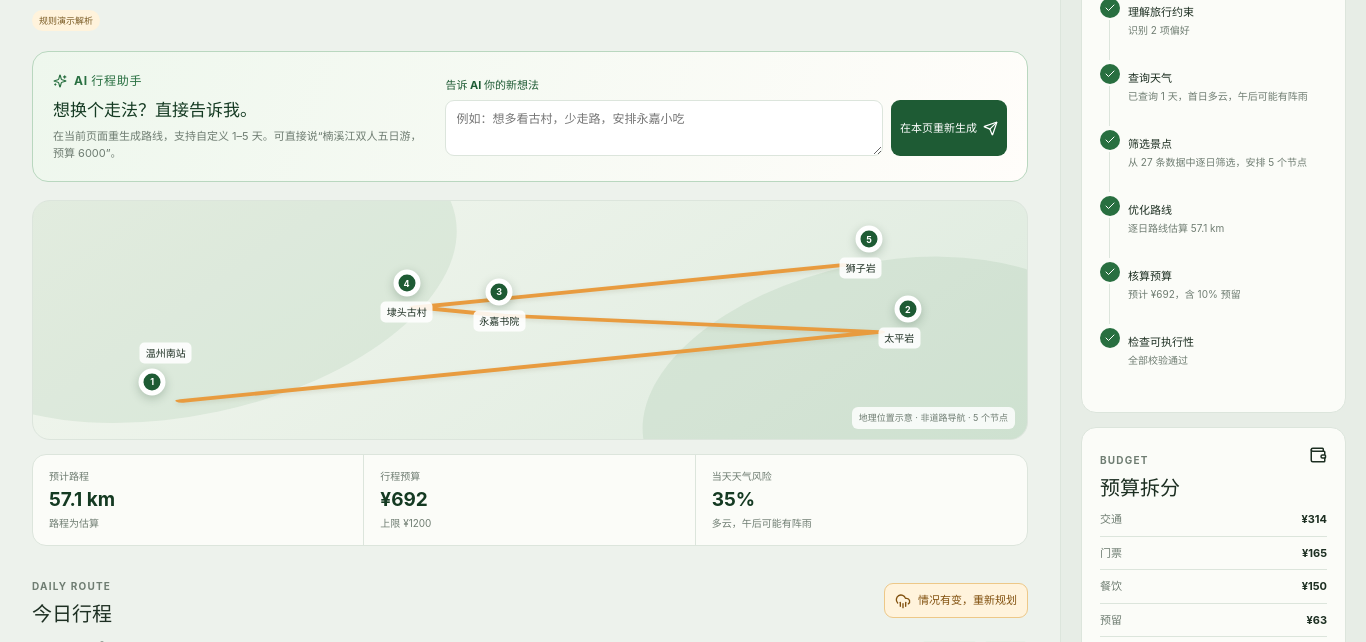
Test: JourneyCockpit › exposes the rain scenario as an explicitly labeled demo event
Click the button "情况有变，重新规划".
click(956, 601)  # box [884,583,1028,618]
(page scrolled)
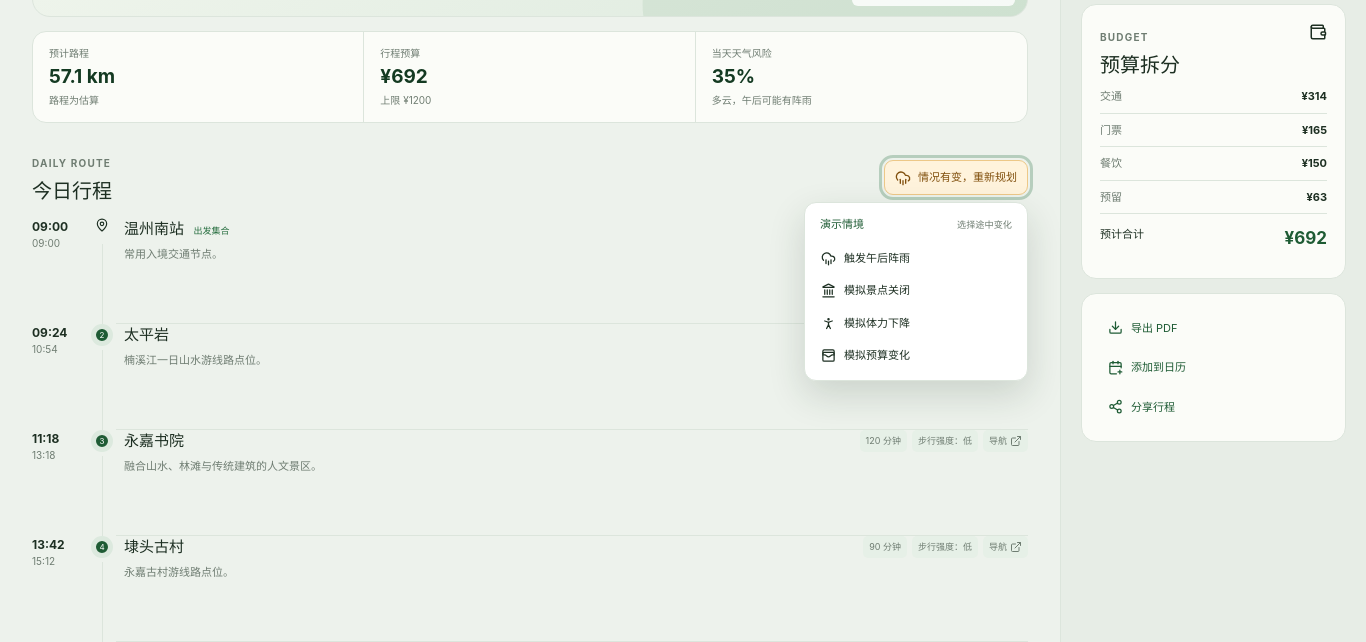
Expected: the text "演示情境" is shown, [820,216,864,233]
Click the button "触发午后阵雨".
click(916, 258)  # box [813,242,1019,274]
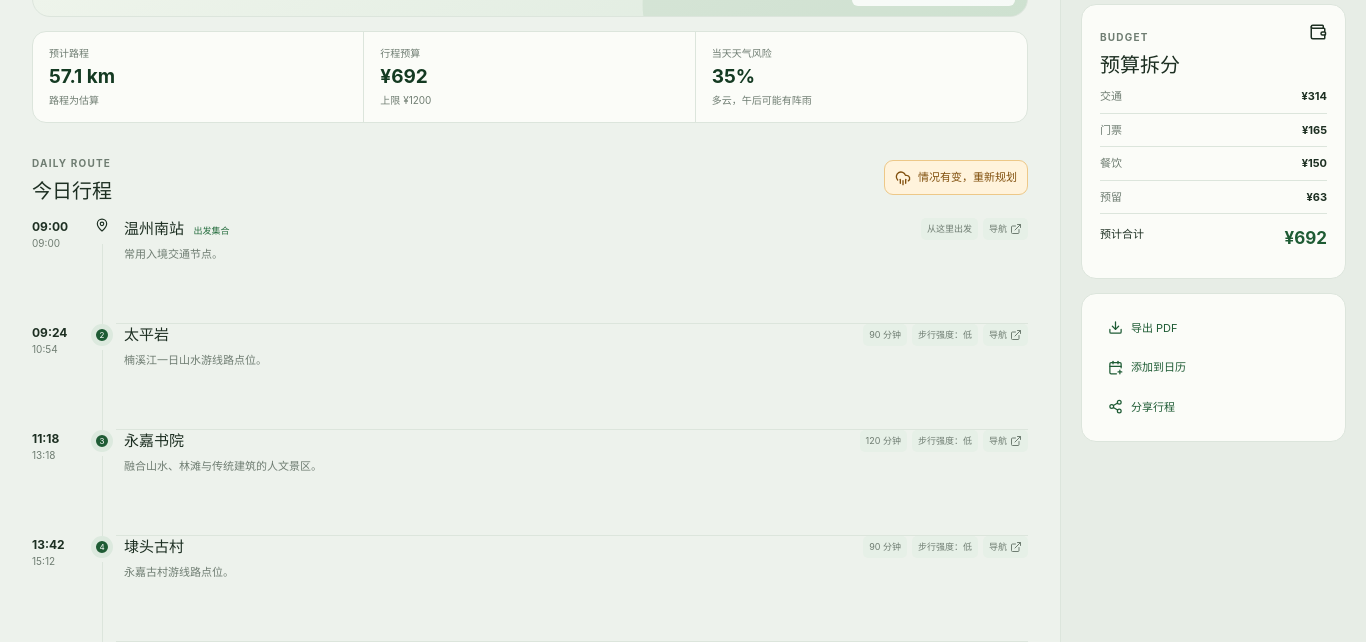
Expected: the text "演示情境" is gone
